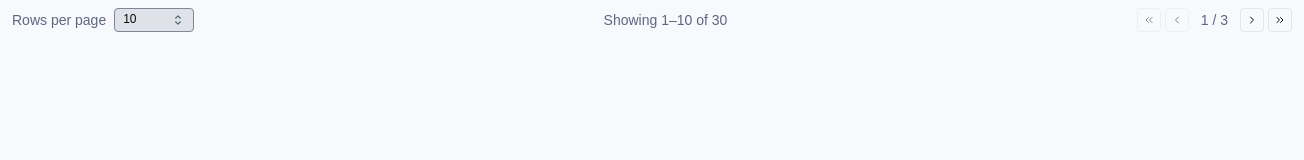
DataTablePagination › has no axe violations with the page-size listbox open (portalled content lives on baseElement)
Click the dropdown named "Rows per page": point(154, 20) [114,8,194,32]
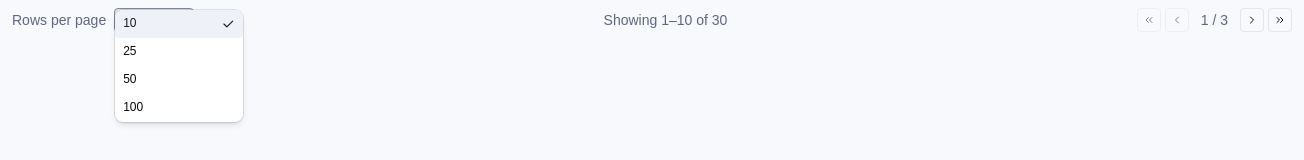
Expected: the list is shown, [115,10,243,122]
